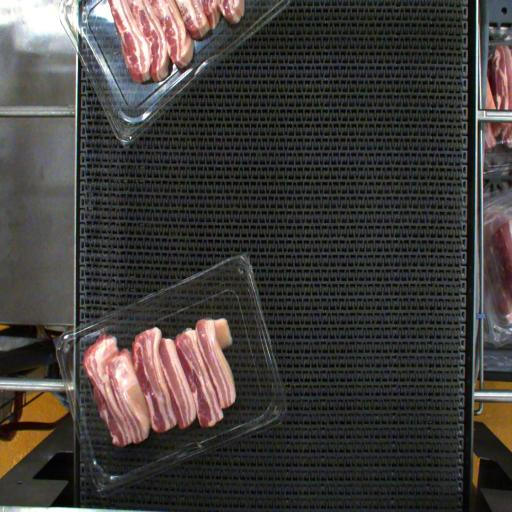twisted-meat: (108, 352, 147, 439)
